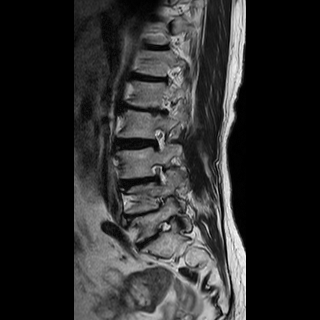RFS0: (145, 124, 173, 155)
RFS1: (145, 158, 174, 189)
